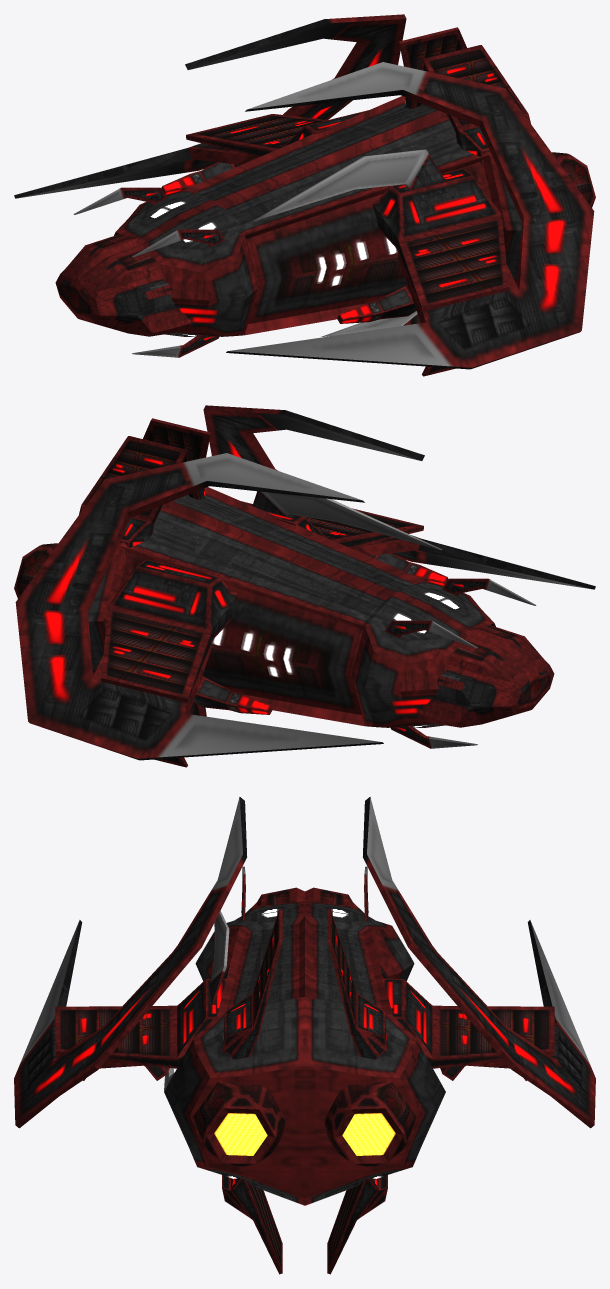
The model's file is pirateFighter.FBX.
The picture shows the model from 3 angles, top to bottom: view 1: azimuth 30°, elevation 25°; view 2: azimuth 150°, elevation 25°; view 3: azimuth 270°, elevation 25°; orthographic projection. The views are drawn at different scales.
Visible parts, largest first — view 1: Pirate_Fighter; view 2: Pirate_Fighter; view 3: Pirate_Fighter.
Boxes of the visible parts, box(x1,y1,x2,y2) form: Pirate_Fighter: box(14, 14, 595, 376); Pirate_Fighter: box(14, 405, 595, 767); Pirate_Fighter: box(14, 797, 595, 1274).
Size of the model in its own units: 16.56 by 11.39 by 16.66.
Materials: 1 (1 with a texture image).
